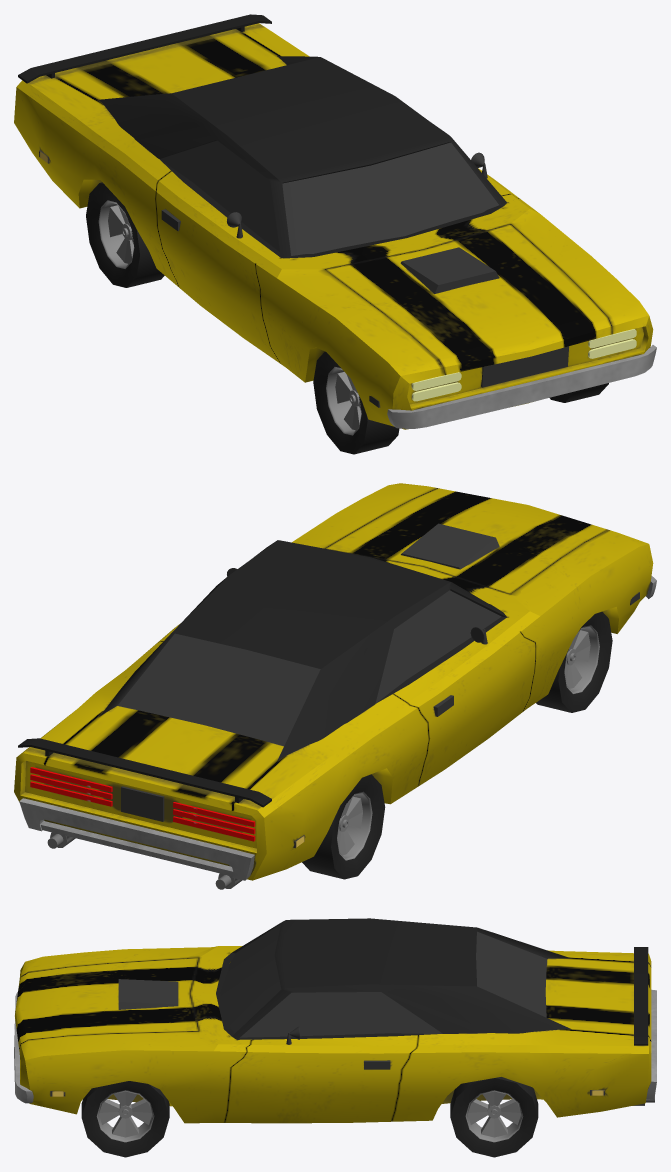
Rendered from dodge_01.fbx.
The picture shows the model from 3 angles, top to bottom: view 1: azimuth 30°, elevation 25°; view 2: azimuth 150°, elevation 25°; view 3: azimuth 270°, elevation 25°; orthographic projection. The views are drawn at different scales.
Visible parts, largest first — view 1: main_01, roof_01, front_glass_01, front_bumper_01, side_glass_01, right_back_tire_01, spoiler_01, right_front_tire_01, air_inlate_01, front_lights_01, right_back_disk_01, front_grill_01 (+1 smaller); view 2: main_01, roof_01, back_glass_01, back_bumper_01, side_glass_01, back_lights_01, right_back_tire_01, spoiler_01, air_inlate_01, right_front_tire_01, right_back_disk_01, right_front_disk_01 (+2 smaller); view 3: main_01, roof_01, side_glass_01, back_glass_01, front_glass_01, left_back_tire_01, left_front_tire_01, left_front_disk_01, left_back_disk_01, air_inlate_01, spoiler_01, back_bumper_01 (+1 smaller).
Boxes of the visible parts, x1,y1,x2,y2 form: main_01: (14, 23, 653, 429); roof_01: (98, 56, 506, 258); front_glass_01: (282, 142, 498, 255); front_bumper_01: (387, 345, 656, 428); side_glass_01: (160, 140, 279, 251); right_back_tire_01: (86, 182, 164, 287); spoiler_01: (18, 14, 271, 83); right_front_tire_01: (313, 351, 399, 454); air_inlate_01: (400, 247, 499, 293); front_lights_01: (411, 329, 636, 401); right_back_disk_01: (98, 200, 134, 268); front_grill_01: (481, 346, 568, 387); main_01: (14, 483, 653, 880); roof_01: (98, 540, 506, 760); back_glass_01: (117, 633, 320, 746); back_bumper_01: (19, 798, 254, 880); side_glass_01: (375, 590, 501, 702); back_lights_01: (30, 767, 255, 841); right_back_tire_01: (302, 774, 385, 879); spoiler_01: (18, 738, 271, 807); air_inlate_01: (401, 523, 499, 569); right_front_tire_01: (536, 611, 612, 712); right_back_disk_01: (337, 791, 372, 860); right_front_disk_01: (564, 625, 599, 693); main_01: (15, 946, 651, 1123); roof_01: (216, 918, 571, 1039); side_glass_01: (240, 992, 442, 1037); back_glass_01: (476, 931, 547, 1017); front_glass_01: (220, 924, 281, 1033); left_back_tire_01: (450, 1077, 538, 1157); left_front_tire_01: (81, 1081, 169, 1157); left_front_disk_01: (96, 1090, 154, 1142); left_back_disk_01: (465, 1090, 523, 1142); air_inlate_01: (118, 979, 178, 1009); spoiler_01: (634, 947, 648, 1045); back_bumper_01: (646, 989, 656, 1099).
Bounding box in the file's own units: 7.73 × 5.22 × 19.14.
